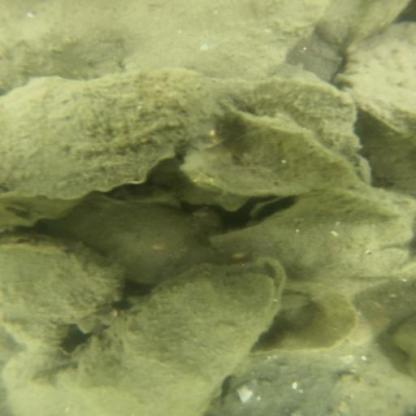Oyster- Indeterminate: (45, 258, 288, 414), (179, 118, 373, 199)
Oyster-Closed: (0, 72, 228, 204), (0, 236, 120, 353), (226, 348, 411, 414), (60, 201, 203, 283), (216, 69, 355, 151), (332, 22, 415, 111), (302, 183, 399, 226)
